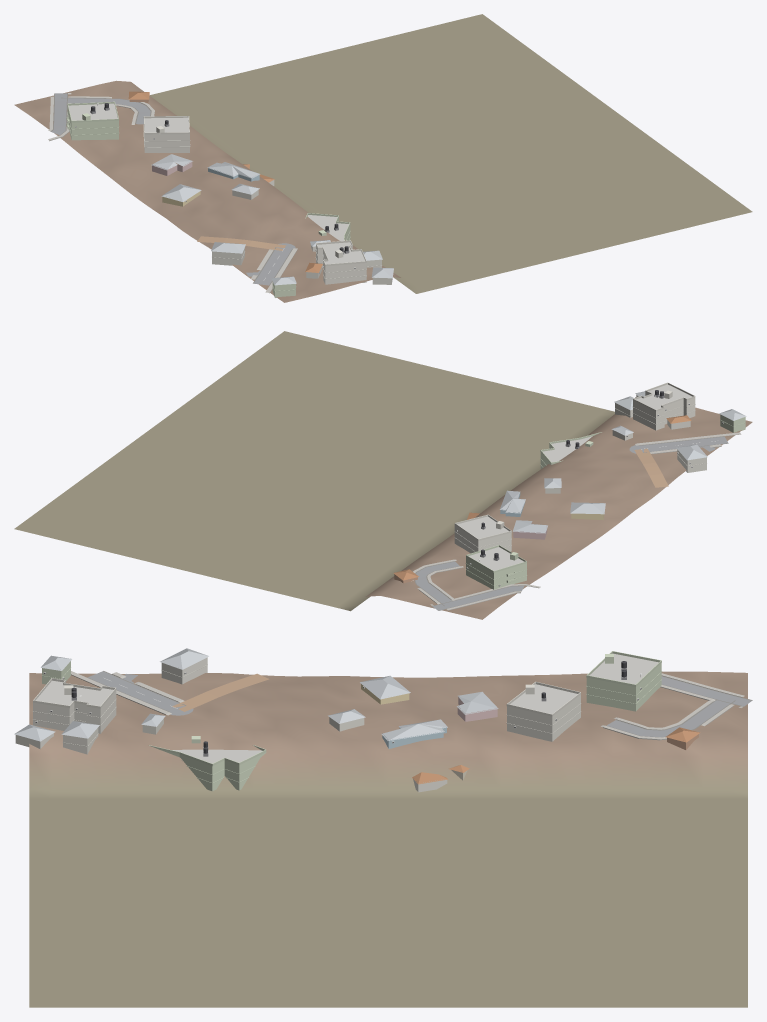
3 renders of one model, top to bottom at view 1: azimuth 30°, elevation 25°; view 2: azimuth 150°, elevation 25°; view 3: azimuth 270°, elevation 25°, orthographic. The views are drawn at different scales.
Parts seen in each view (by area): view 1: Terrain-col, Buildings-col, Roads-col, Details, Sidewalks-col; view 2: Terrain-col, Buildings-col, Roads-col, Details, Sidewalks-col; view 3: Terrain-col, Buildings-col, Roads-col, Details, Sidewalks-col.
Part boxes in pixels (left/top/right/bottom): Terrain-col: left=14, top=14, right=752, bottom=302; Buildings-col: left=67, top=91, right=393, bottom=297; Roads-col: left=50, top=93, right=295, bottom=285; Details: left=66, top=101, right=382, bottom=291; Sidewalks-col: left=48, top=93, right=297, bottom=293; Terrain-col: left=14, top=331, right=752, bottom=619; Buildings-col: left=393, top=384, right=746, bottom=589; Roads-col: left=414, top=436, right=728, bottom=610; Details: left=454, top=382, right=745, bottom=586; Sidewalks-col: left=411, top=432, right=741, bottom=610; Terrain-col: left=29, top=671, right=747, bottom=1007; Buildings-col: left=14, top=648, right=700, bottom=792; Roads-col: left=87, top=671, right=752, bottom=737; Details: left=32, top=651, right=662, bottom=783; Sidewalks-col: left=71, top=671, right=744, bottom=740.
Size of the model in its own units: 264 by 25.52 by 263.
